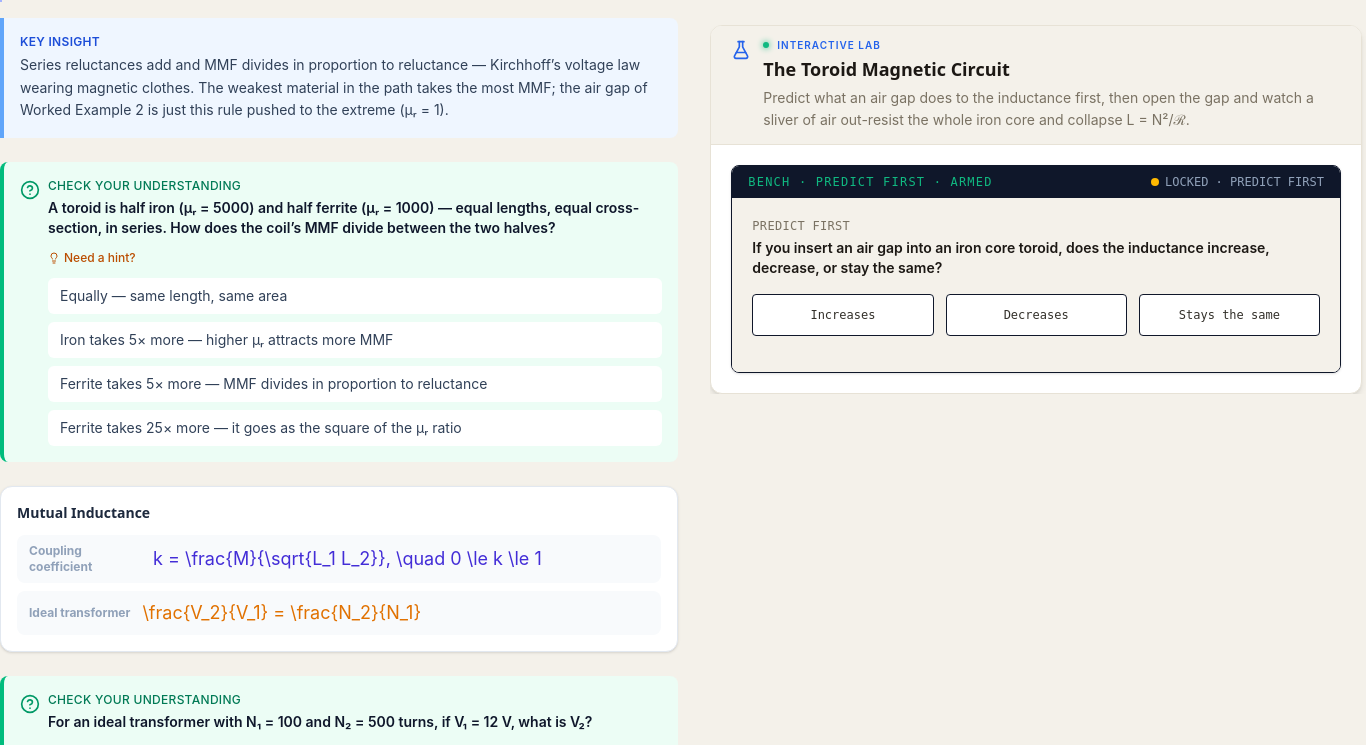
MagneticCircuits page — solve it by hand (unit 2F) › adds the series-MMF concept check and keeps the original three
(page scrolled)
Expected: the text "N₁ = 100 and N₂ = 500" is shown, [48,713,592,730]
Expected: the text "half iron" is shown, [48,199,639,236]
Click the button "Ferrite takes 5× more — MMF divides in proportion to reluctance": x=355, y=384 [48,366,662,402]
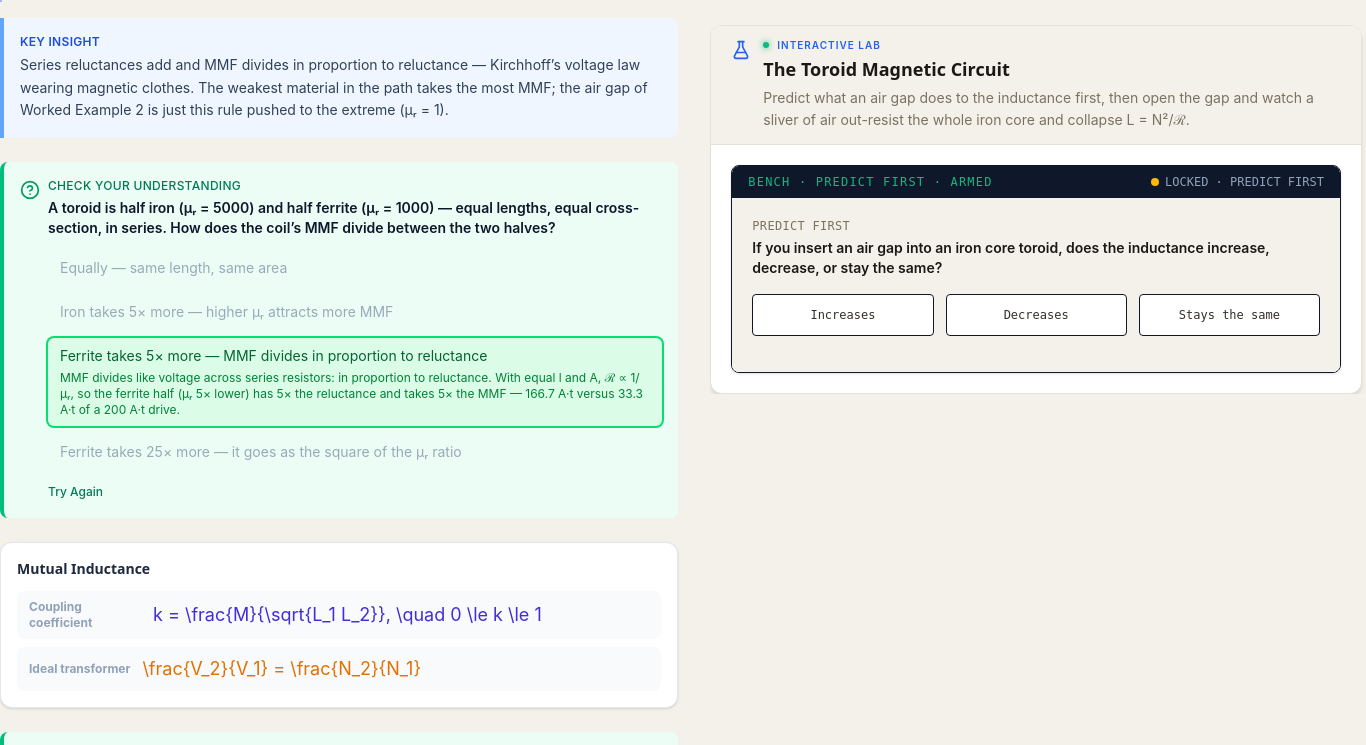
Now the text "166.7 A·t versus 33.3 A·t" is shown, box [60,370,643,417]
